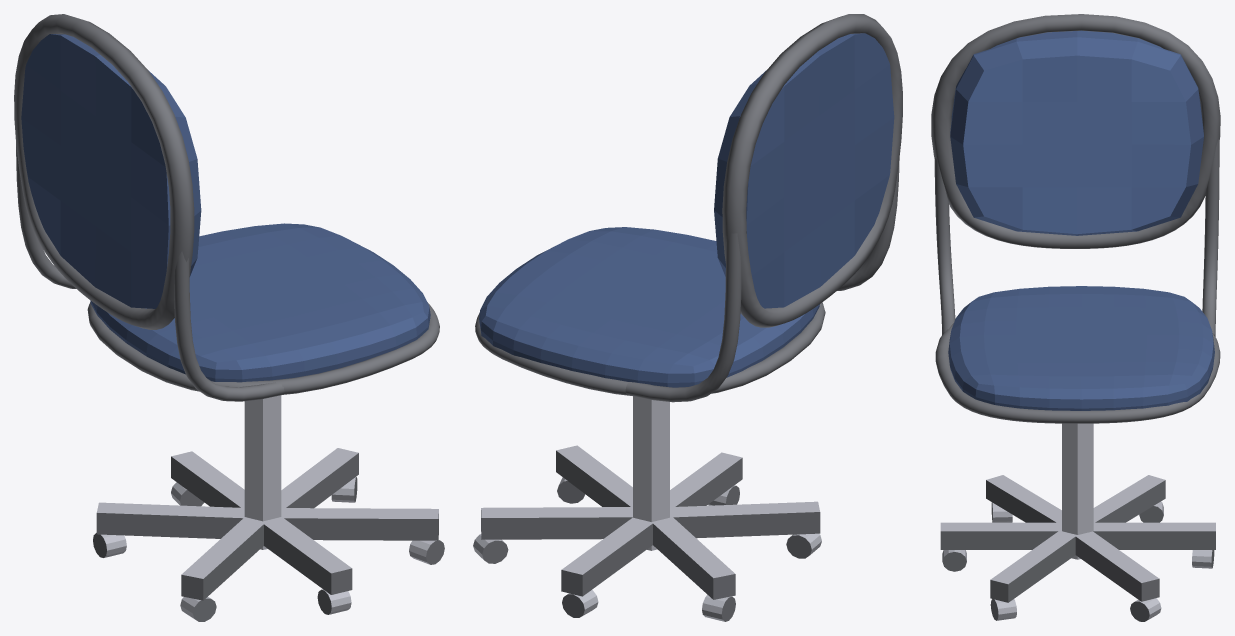
File: Chair1.fbx
The picture shows the model from 3 angles, left to right: view 1: azimuth 30°, elevation 25°; view 2: azimuth 150°, elevation 25°; view 3: azimuth 270°, elevation 25°; orthographic projection. The views are drawn at different scales.
Visible parts, largest first — view 1: CHAIR_BezierCurve.002; view 2: CHAIR_BezierCurve.002; view 3: CHAIR_BezierCurve.002.
Boxes of the visible parts, bbox=[...] form: CHAIR_BezierCurve.002: bbox=[14, 14, 444, 621]; CHAIR_BezierCurve.002: bbox=[473, 14, 902, 621]; CHAIR_BezierCurve.002: bbox=[931, 14, 1220, 621].
Size of the model in its own units: 96.25 by 90.5 by 168.
